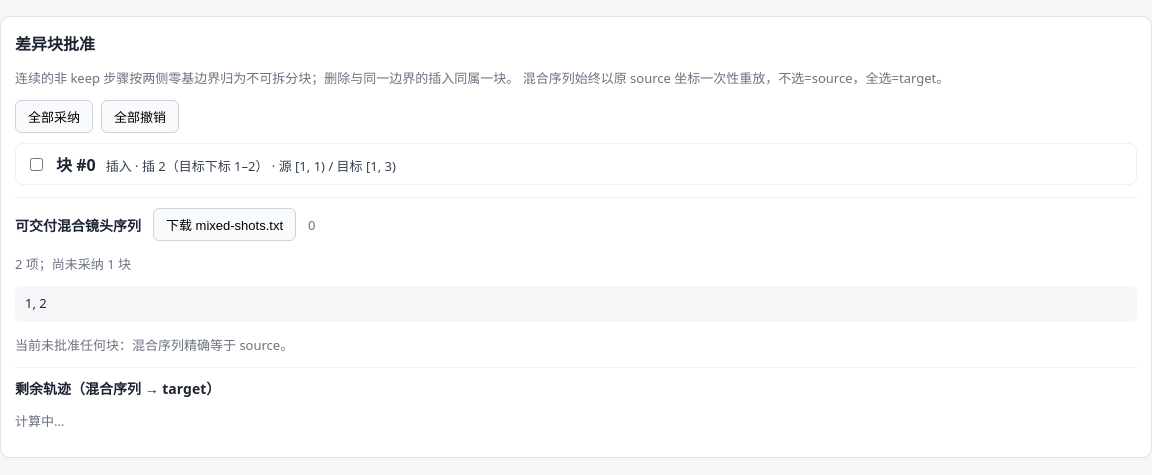
Test case: 纯插入/纯删除块的界面 › 纯插入块：勾选后插入项进入混合序列
The width and height of the screenshot is (1152, 475).
Expected: the number of list items with test id "diff-block" is 1, [15, 143, 1137, 185]
Expected: the text with test id "mixed-sequence" reads "1, 2", [25, 294, 47, 312]
Click the checkbox with test id "block-checkbox" at (36, 164), box [30, 158, 43, 171]
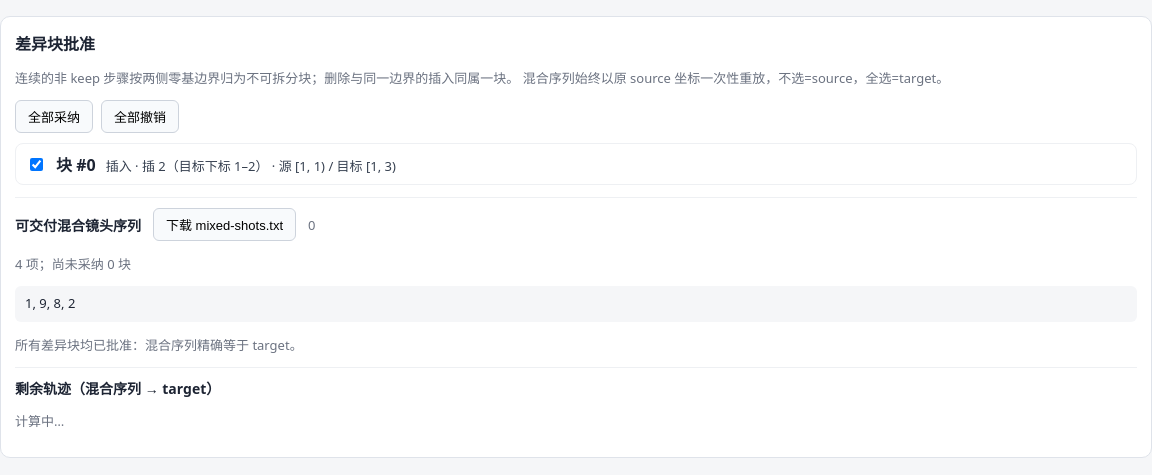
Expected: the text "插入 · 插 2（目标下标 1–2） · 源 [1, 1) / 目标 [1, 3)" is shown, [106, 156, 396, 175]
Result: the text with test id "mixed-sequence" reads "1, 9, 8, 2" at [25, 294, 75, 312]
